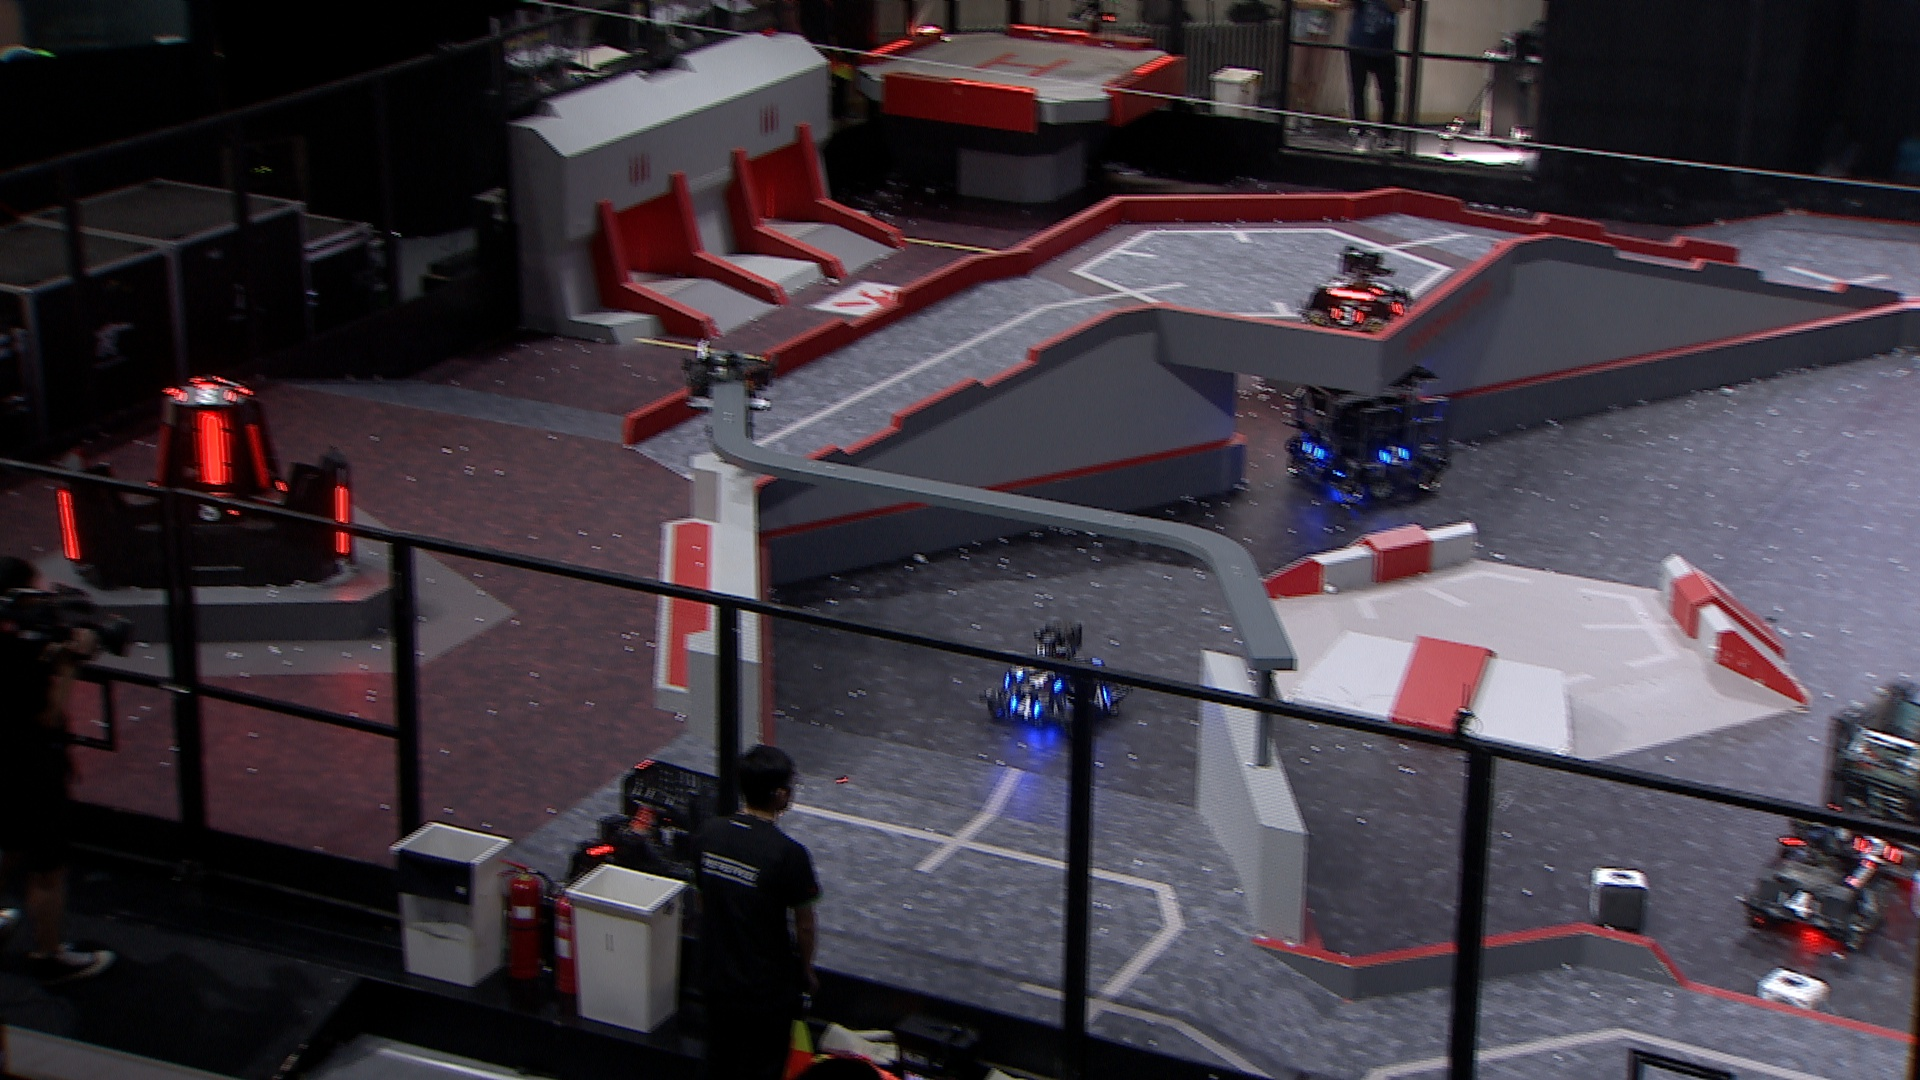armor: (195, 409, 229, 498), (55, 483, 82, 562), (330, 483, 353, 556), (243, 425, 269, 491), (149, 418, 169, 491), (1779, 891, 1821, 924), (187, 498, 243, 522), (1855, 839, 1903, 864), (175, 386, 237, 401), (1011, 669, 1048, 692), (1007, 694, 1038, 717), (1329, 305, 1365, 324), (1859, 887, 1880, 916), (1381, 442, 1408, 463), (1087, 684, 1112, 705), (1302, 439, 1323, 462), (1370, 280, 1393, 295), (1391, 297, 1414, 313)
base: (46, 376, 357, 591)
car: (560, 752, 746, 938), (1278, 344, 1455, 508), (1809, 671, 1920, 891), (1741, 804, 1894, 959), (982, 618, 1129, 735), (1296, 243, 1418, 339)
watcher: (684, 338, 775, 450)
